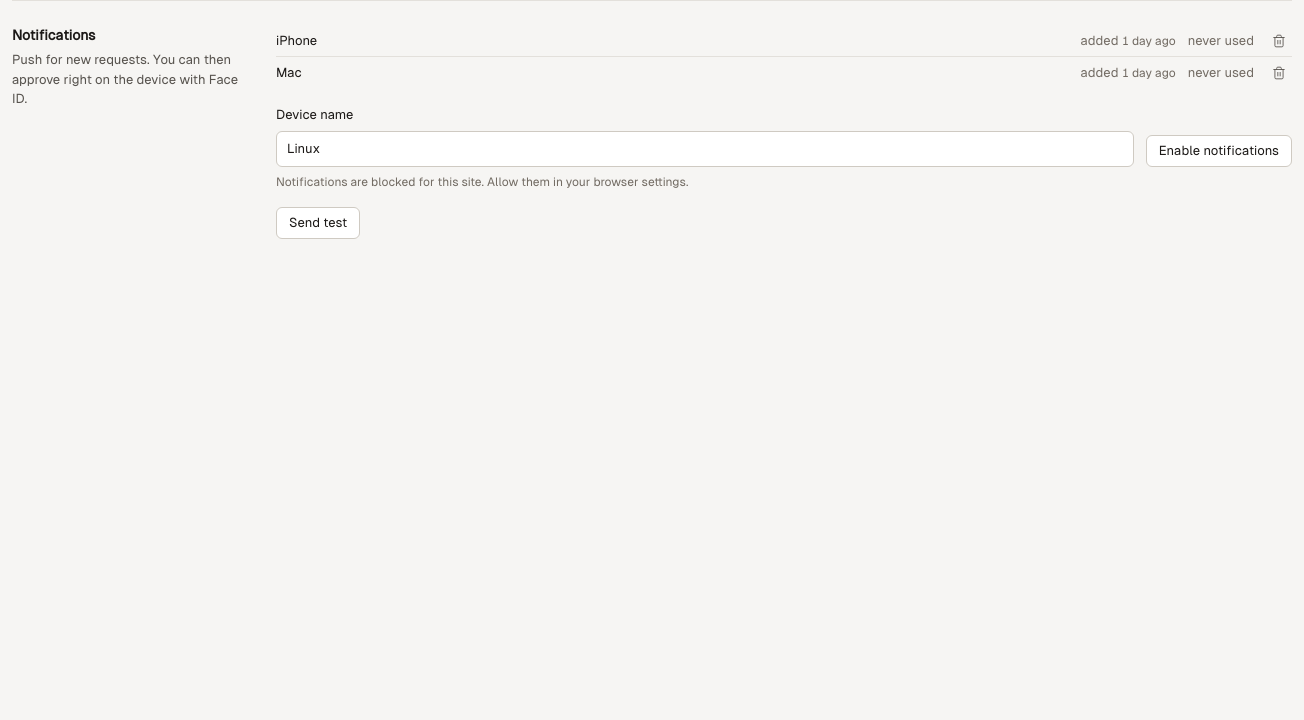
Test case: PushSection › sends a test notification and reports the count
Click the button "Send test".
click(318, 222)  # box [276,206,360,238]
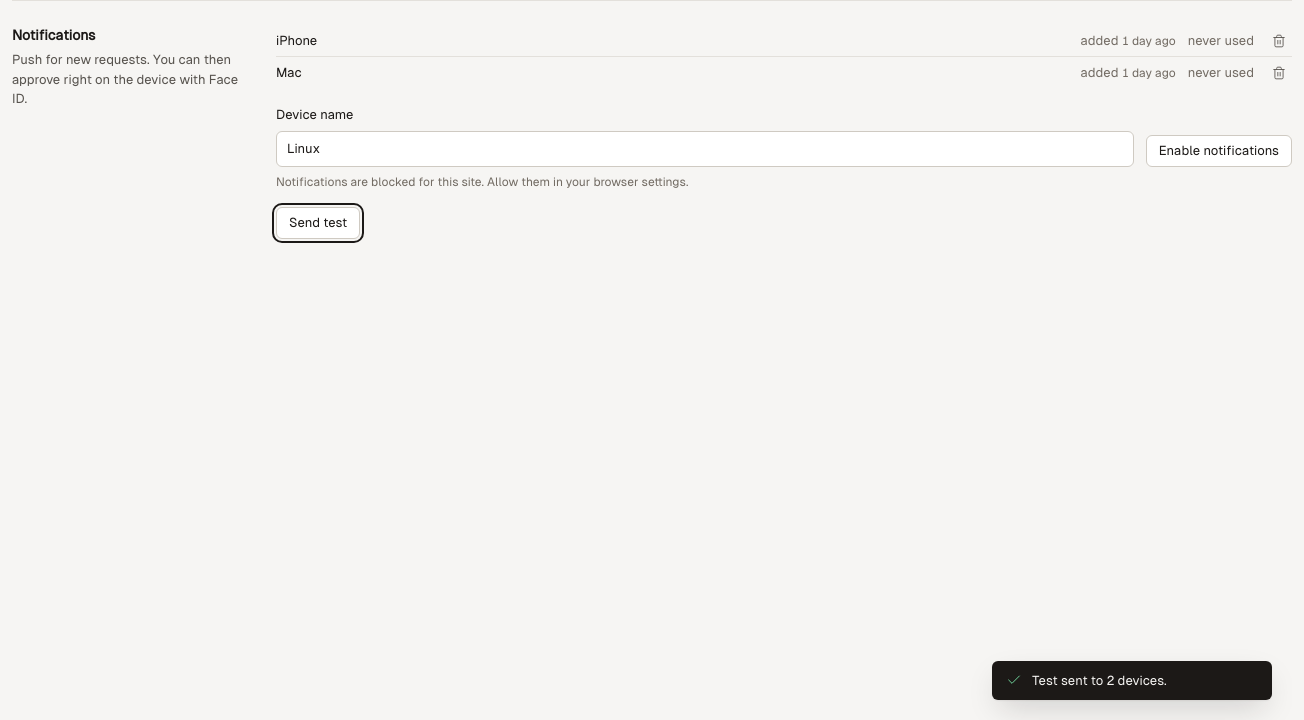
Expected: the text "Test sent to 2 devices." is shown, [1032,672,1167,688]
